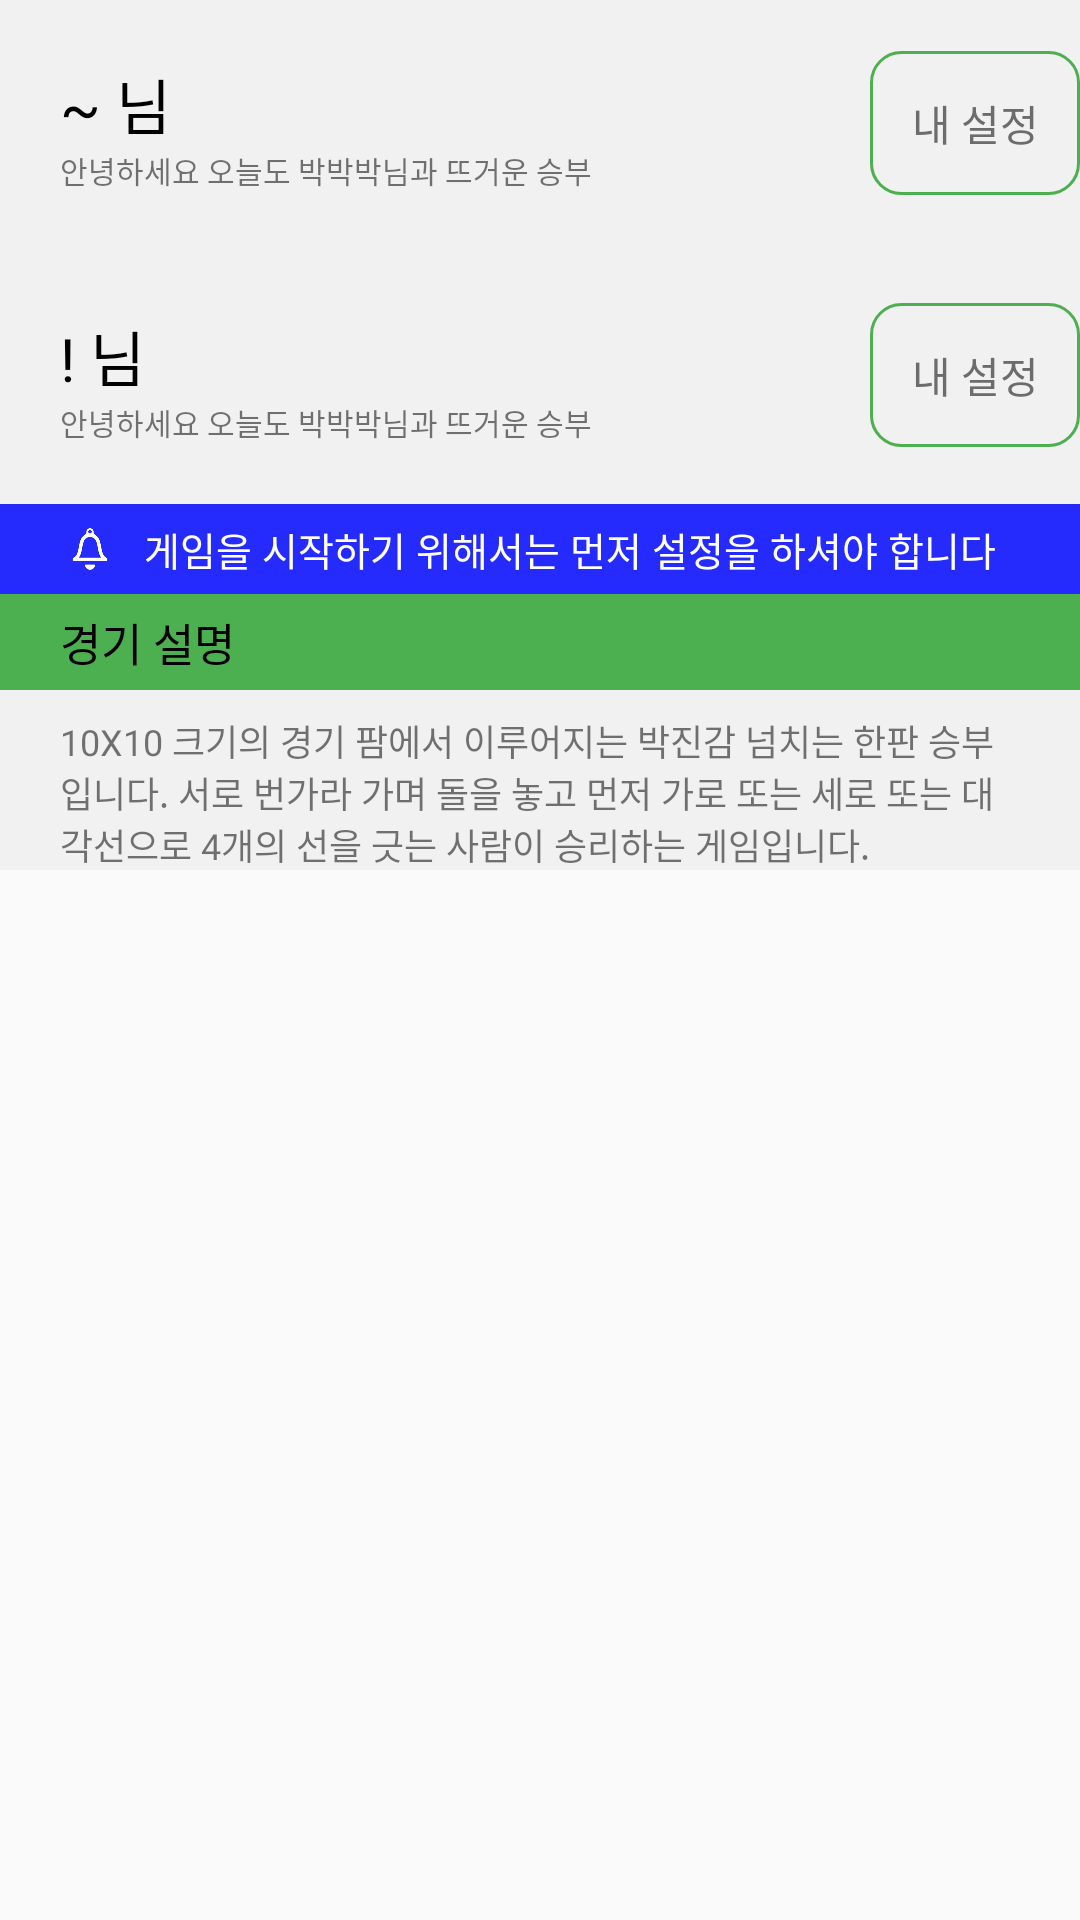

Named icons in this screenshot (1080w x 1920h) and their bounding boxes, (x1, y1, x2, y2):
bell: (73, 528, 107, 570)
